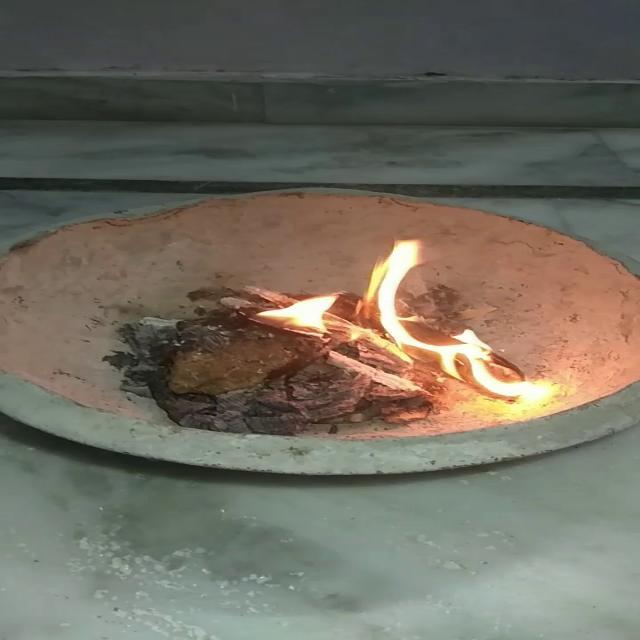Fire: (260, 239, 534, 396)
